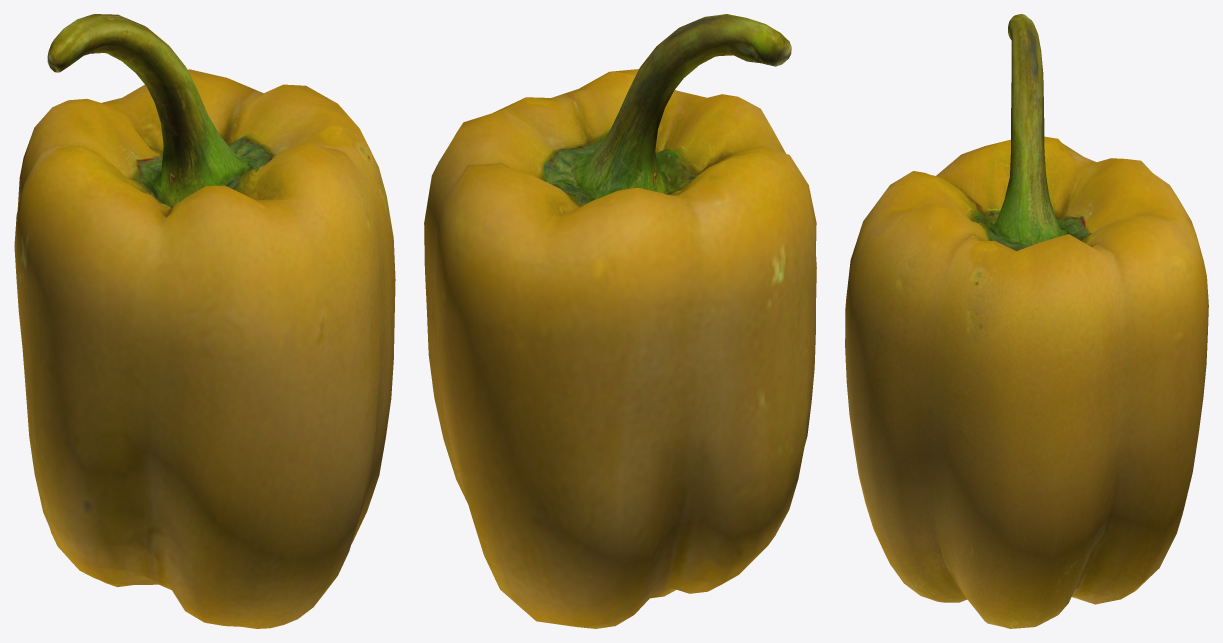
File: YellowVegetablePepper.fbx
3 renders of one model, left to right at view 1: azimuth 30°, elevation 25°; view 2: azimuth 150°, elevation 25°; view 3: azimuth 270°, elevation 25°, orthographic. The views are drawn at different scales.
Parts seen in each view (by area): view 1: Pepper; view 2: Pepper; view 3: Pepper.
Part boxes in pixels (box(x1,y1,x2,y2)): Pepper: box(14, 14, 395, 628); Pepper: box(424, 14, 816, 628); Pepper: box(845, 14, 1208, 628).
Bounding box in the file's own units: 0.0761 × 0.0797 × 0.1266.
Materials: 1 (1 with a texture image).
